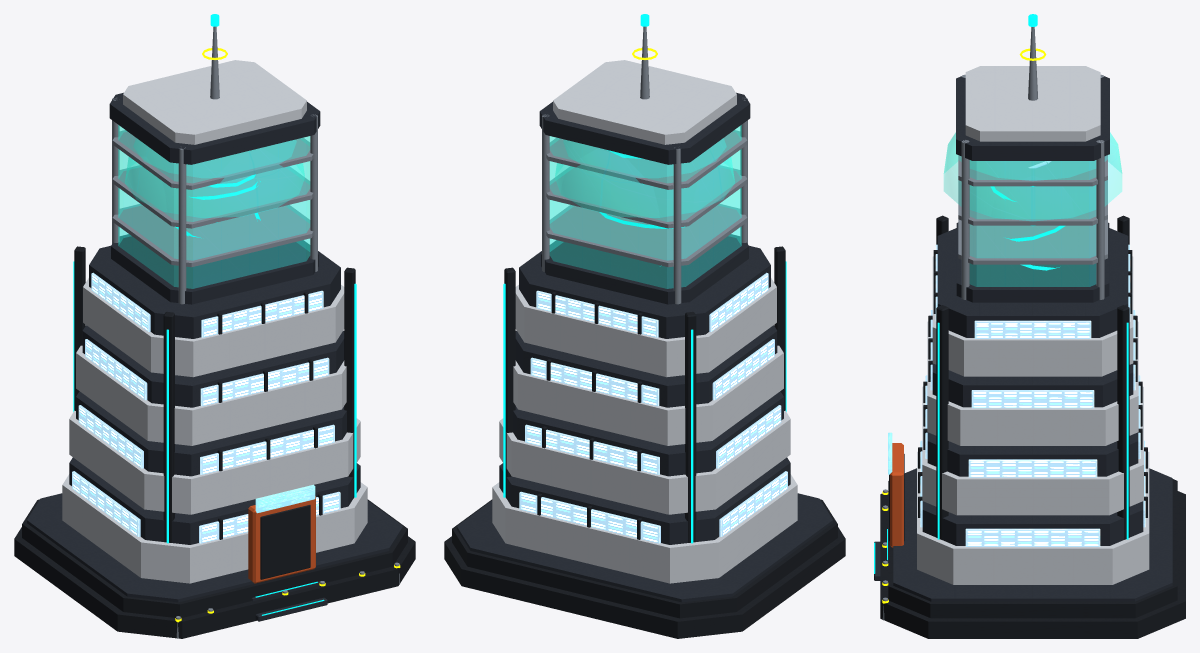
Rendered from bldg_18_r1_01.glb.
The picture shows the model from 3 angles, left to right: view 1: azimuth 30°, elevation 25°; view 2: azimuth 150°, elevation 25°; view 3: azimuth 270°, elevation 25°; orthographic projection.
Visible parts, largest first — view 1: Bldg18_C01_aero_white, Bldg18_C01_carbon_slate, Bldg18_C01_gunmetal, Bldg18_C01_steel_machined, Bldg18_C01_glass_emerald, Bldg18_C01_window_lit, Bldg18_C01_led_cyan, Bldg18_C01_accent_orange, Bldg18_C01_marquee; view 2: Bldg18_C01_aero_white, Bldg18_C01_carbon_slate, Bldg18_C01_gunmetal, Bldg18_C01_steel_machined, Bldg18_C01_glass_emerald, Bldg18_C01_window_lit, Bldg18_C01_led_cyan; view 3: Bldg18_C01_aero_white, Bldg18_C01_carbon_slate, Bldg18_C01_gunmetal, Bldg18_C01_steel_machined, Bldg18_C01_glass_emerald, Bldg18_C01_window_lit, Bldg18_C01_led_cyan, Bldg18_C01_accent_orange.
Boxes of the visible parts, box(x1,y1,x2,y2) form: Bldg18_C01_aero_white: box(62, 60, 367, 583); Bldg18_C01_carbon_slate: box(27, 92, 402, 621); Bldg18_C01_gunmetal: box(14, 246, 415, 638); Bldg18_C01_steel_machined: box(112, 26, 399, 638); Bldg18_C01_glass_emerald: box(118, 125, 310, 288); Bldg18_C01_window_lit: box(72, 272, 340, 543); Bldg18_C01_led_cyan: box(73, 14, 356, 615); Bldg18_C01_accent_orange: box(248, 496, 315, 583); Bldg18_C01_marquee: box(255, 484, 315, 513); Bldg18_C01_aero_white: box(492, 60, 797, 583); Bldg18_C01_carbon_slate: box(457, 92, 832, 602); Bldg18_C01_gunmetal: box(444, 246, 845, 638); Bldg18_C01_steel_machined: box(542, 26, 829, 510); Bldg18_C01_glass_emerald: box(549, 125, 741, 288); Bldg18_C01_window_lit: box(519, 272, 787, 543); Bldg18_C01_led_cyan: box(503, 14, 786, 543); Bldg18_C01_aero_white: box(917, 66, 1149, 584); Bldg18_C01_carbon_slate: box(874, 76, 1172, 601); Bldg18_C01_gunmetal: box(880, 215, 1185, 638); Bldg18_C01_steel_machined: box(882, 27, 1107, 620); Bldg18_C01_glass_emerald: box(943, 132, 1122, 286); Bldg18_C01_window_lit: box(920, 244, 1145, 546); Bldg18_C01_led_cyan: box(874, 14, 1128, 573); Bldg18_C01_accent_orange: box(890, 443, 903, 547).
Size of the model in its own units: 12 by 20.82 by 10.71.
12 materials, 12 textured.
